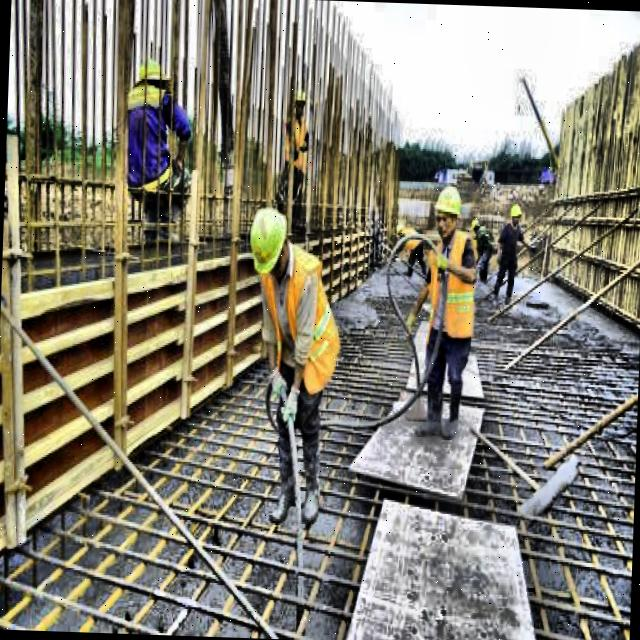helmet: (243, 200, 291, 281), (130, 59, 170, 109), (432, 182, 463, 239), (506, 198, 523, 228)
